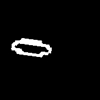chain: (11, 38, 50, 56)
